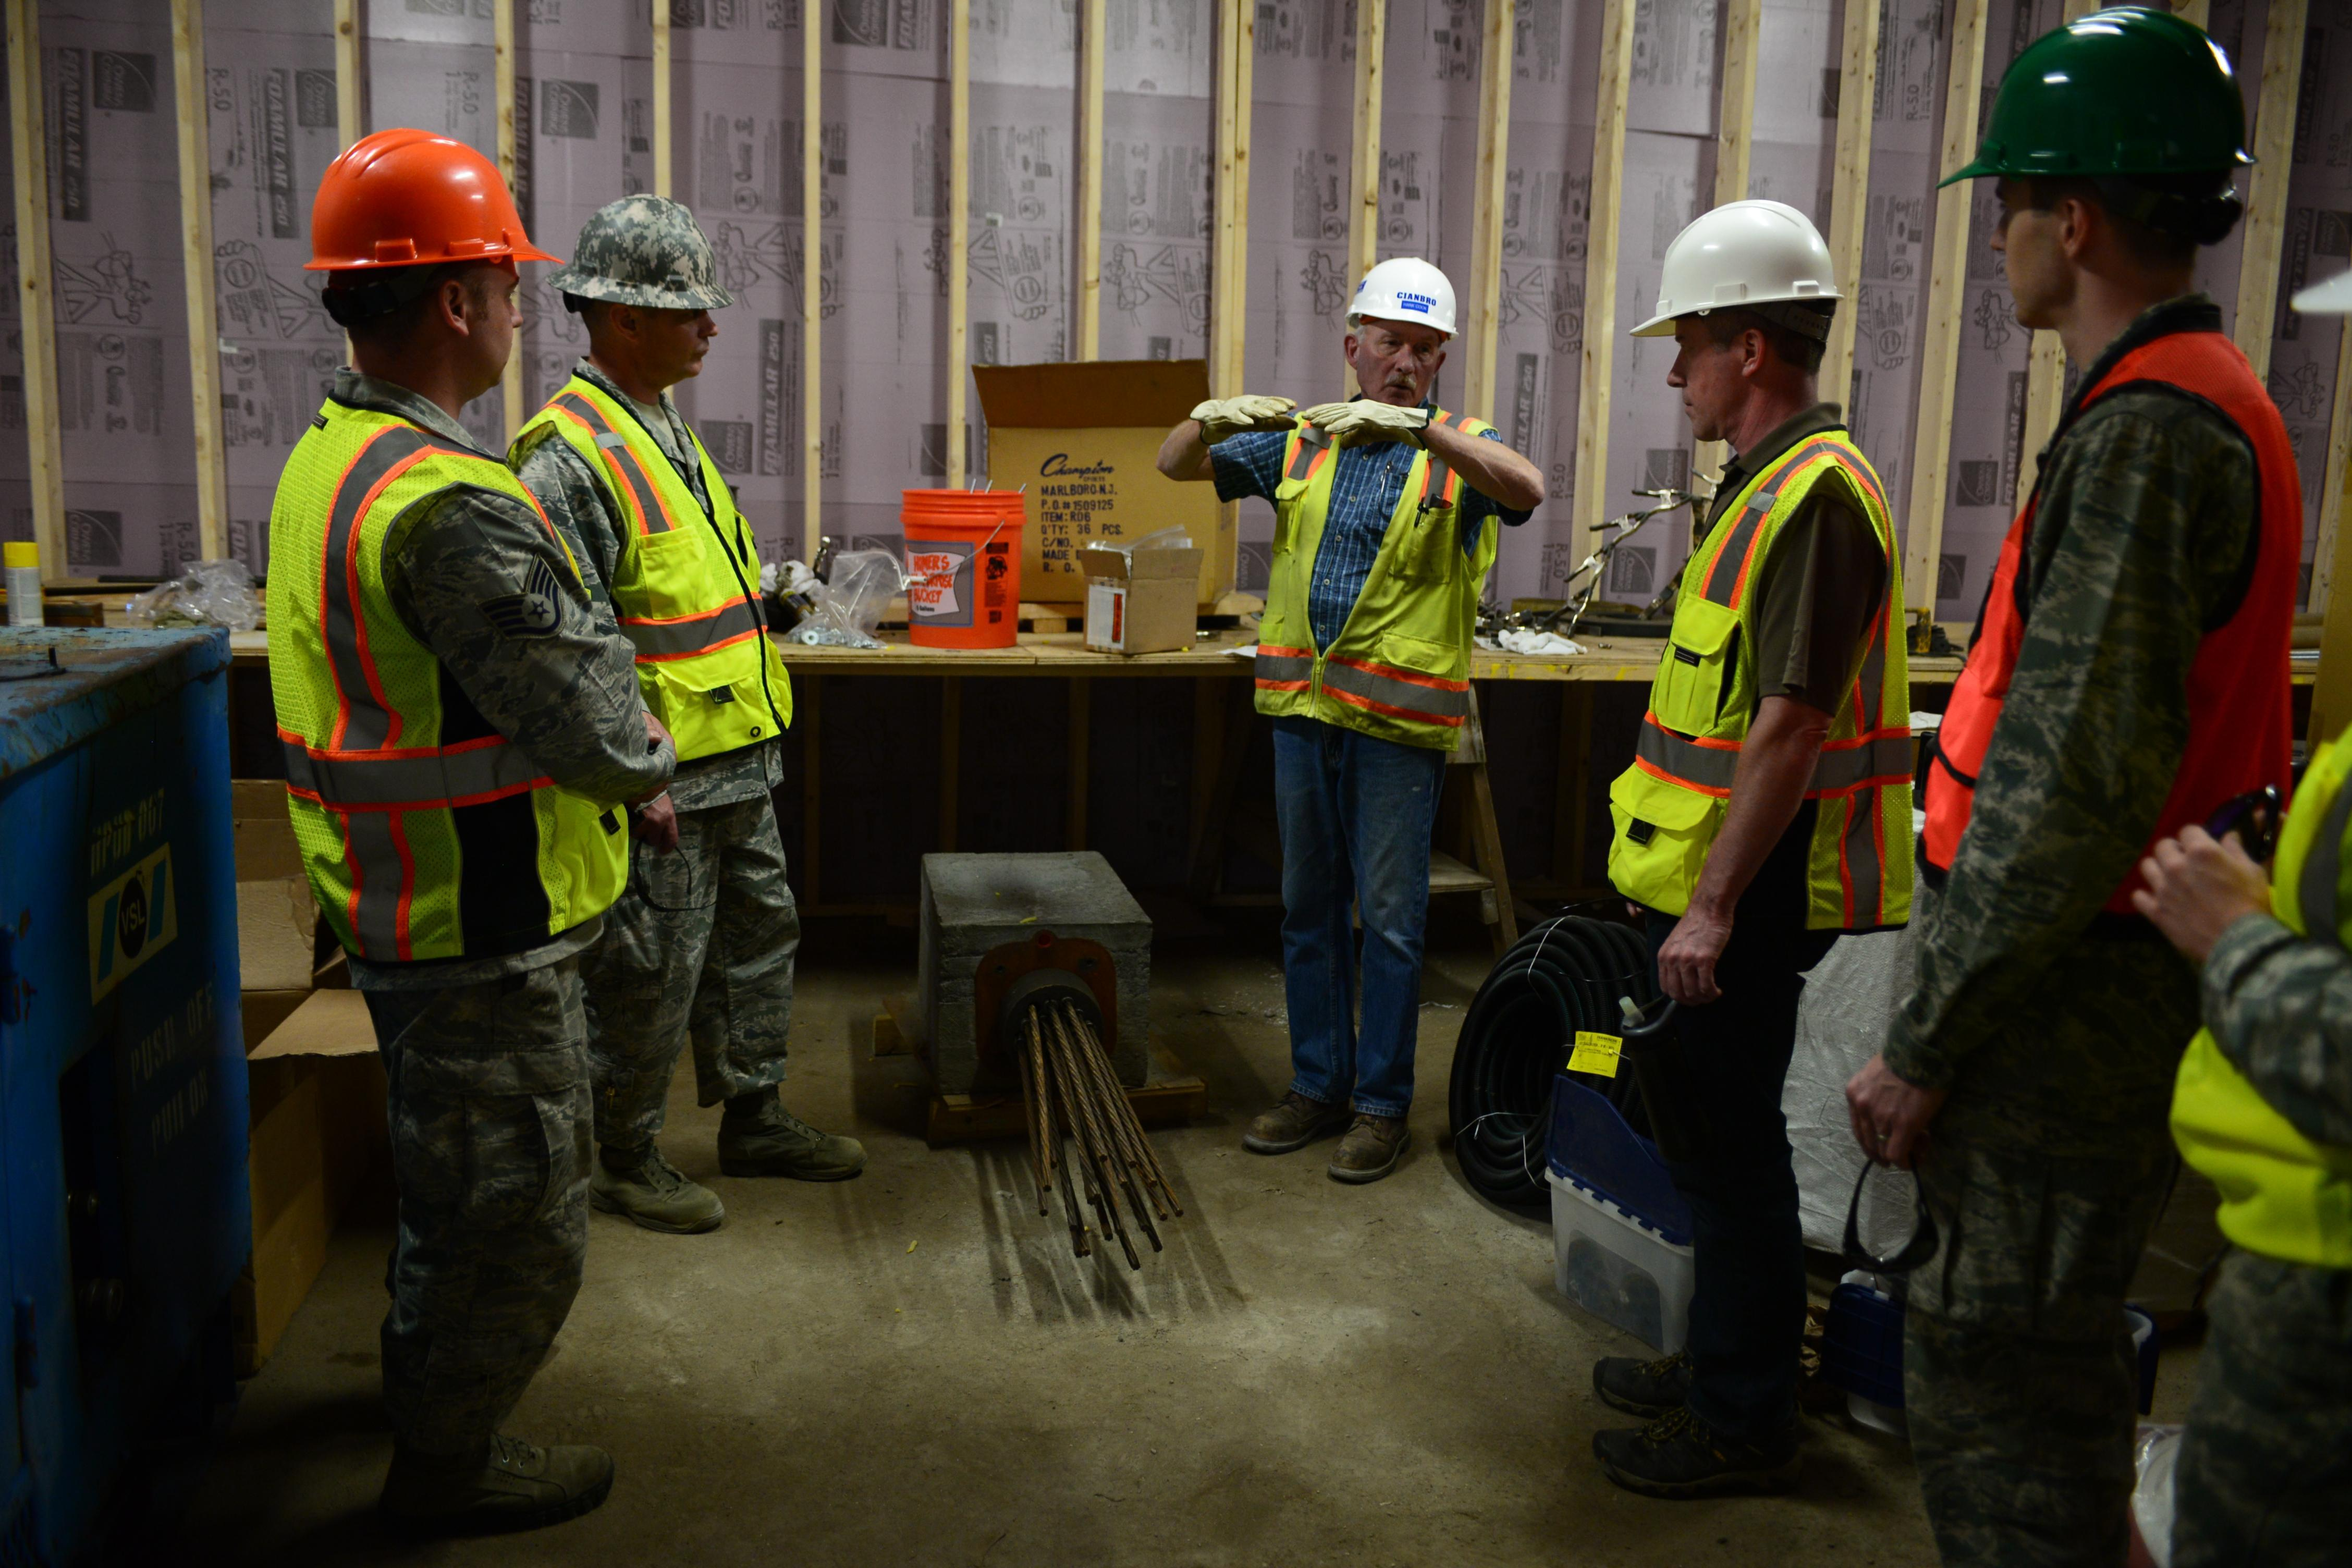vest: (245, 360, 647, 955), (1928, 292, 2296, 924), (502, 357, 816, 808), (1662, 411, 1902, 945), (1244, 373, 1509, 742)
